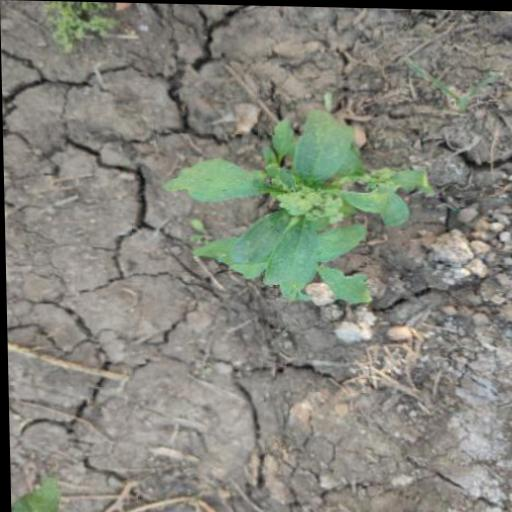weed: (164, 101, 423, 296)
